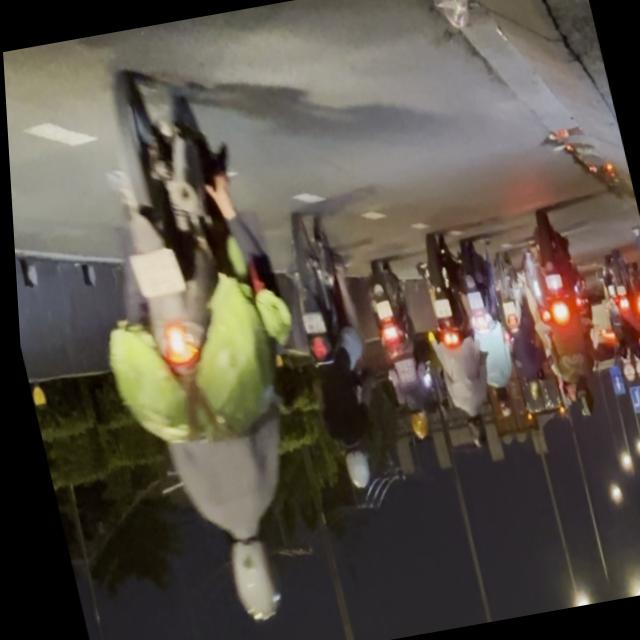helmet: (213, 527, 280, 627), (333, 442, 368, 492)
licenseplate: (36, 51, 353, 640), (266, 209, 393, 496)
nohelmet: (125, 248, 180, 300), (298, 313, 322, 336)
